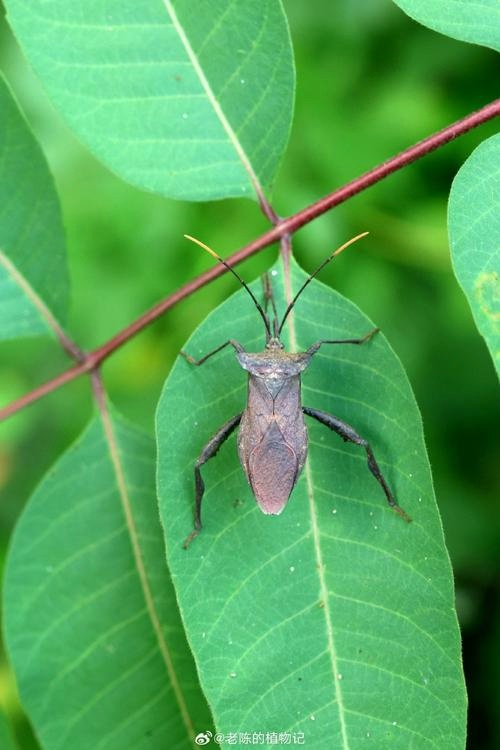Stink_Bug: (218, 241, 355, 494)
